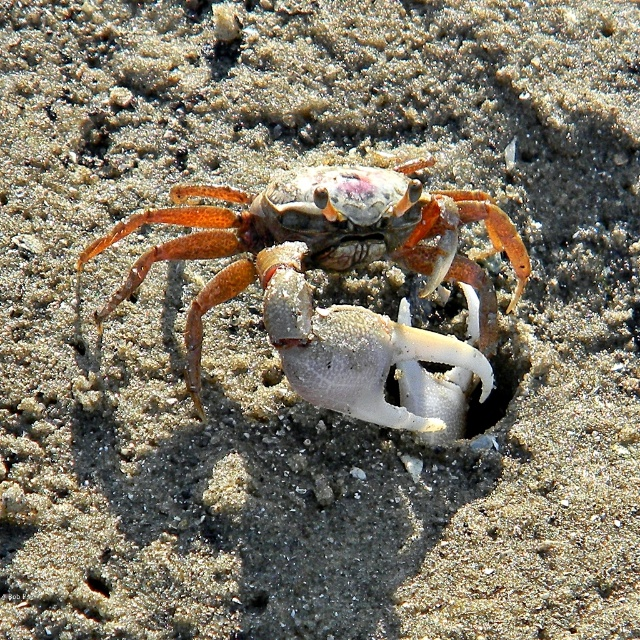Crab: (65, 145, 537, 444)
